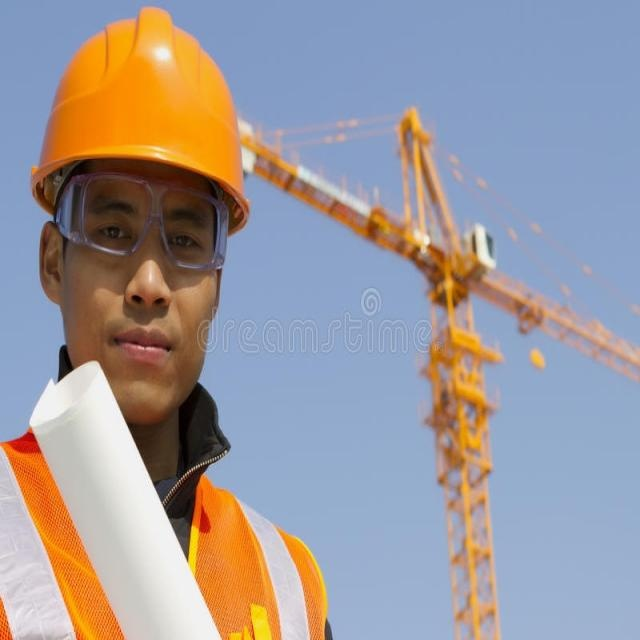Con_Casco: (37, 9, 251, 391)
